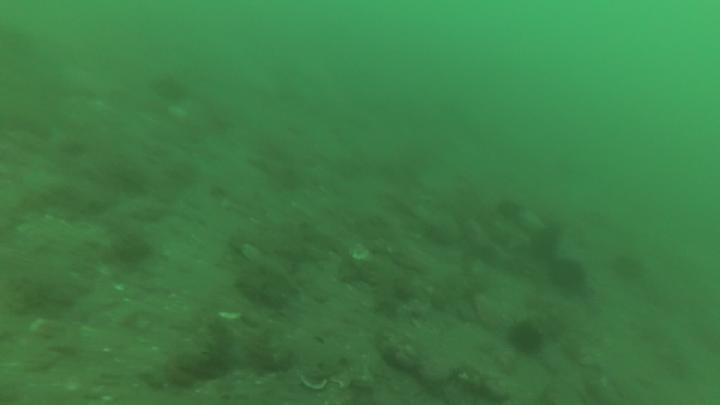echinus: (366, 254, 406, 317), (165, 351, 226, 389), (28, 315, 85, 355), (434, 378, 490, 405), (471, 290, 503, 335)
starfish: (501, 316, 549, 359), (546, 256, 590, 298), (148, 71, 191, 107), (528, 225, 566, 263), (609, 253, 649, 285), (496, 197, 527, 223)
